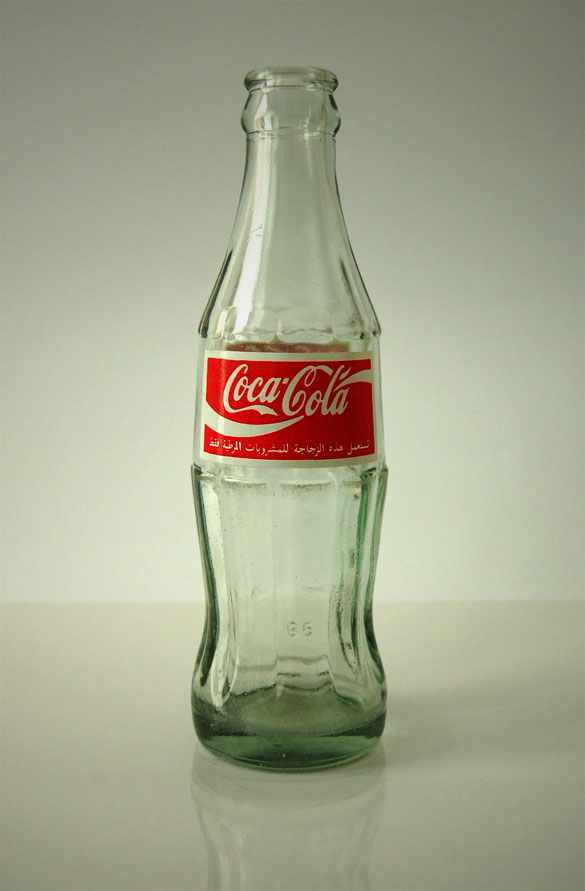bottle: (186, 64, 392, 772)
